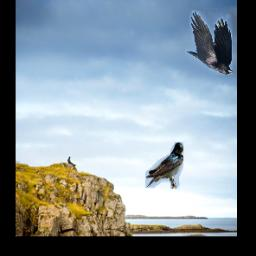Crow: (186, 11, 234, 76)
Swallow: (145, 142, 183, 189)
